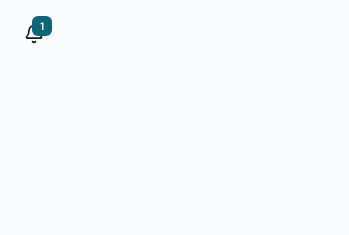
Test: NotificationBell › shows the unread count, lists by type, and Mark all as read clears it
Press Enter in the button named "Notifications, 1 unread", box x1=12 y1=12 x2=56 y2=56
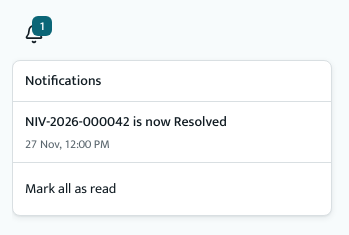
Now the text "NIV-2026-000042 is now Resolved" is shown, box x1=25 y1=112 x2=227 y2=132
Click the menu item "Mark all as read": (71, 188) x1=25 y1=177 x2=116 y2=200
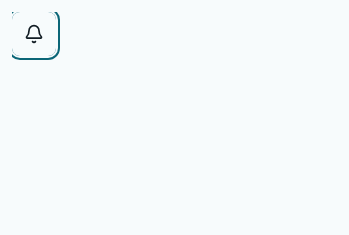
Now the button named "Notifications" is shown, box x1=12 y1=12 x2=56 y2=56
Now the text with test id "unread-count" is gone
